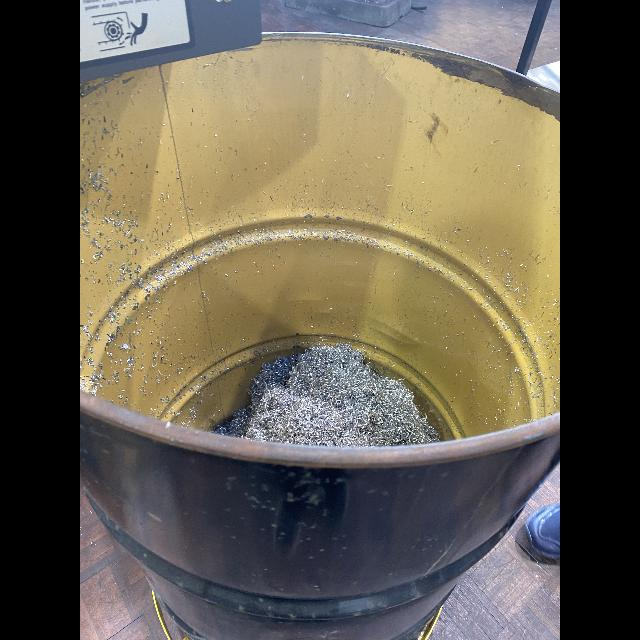Aluminium: (220, 343, 439, 447)
